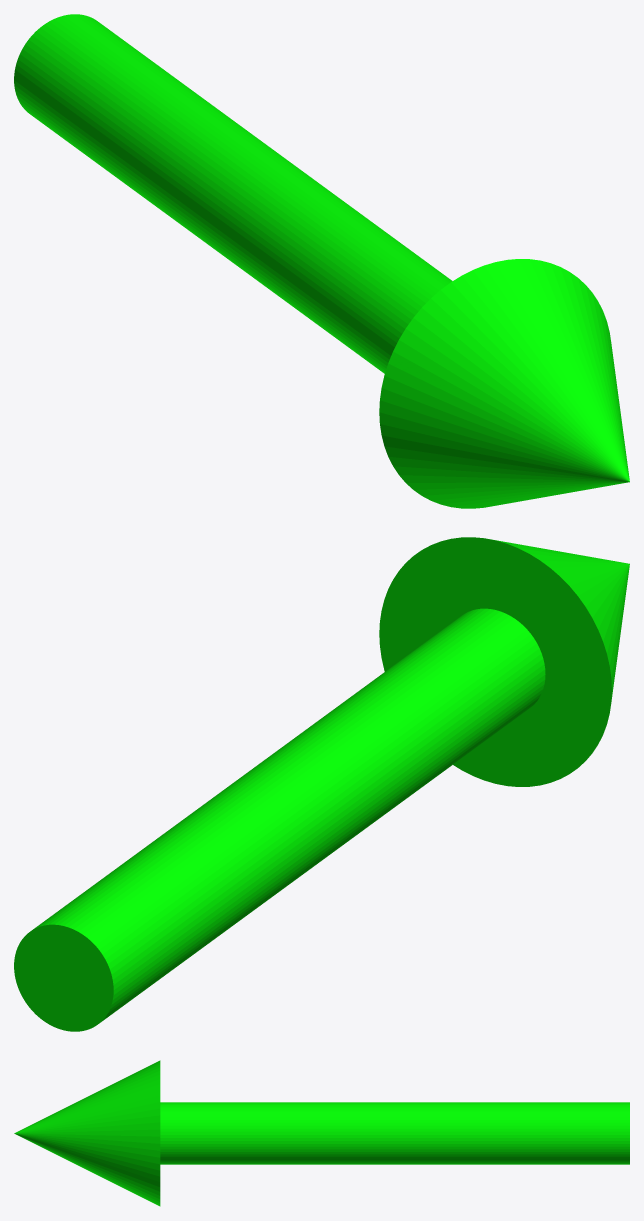
Rendered from arrow.obj.
The picture shows the model from 3 angles, top to bottom: view 1: azimuth 30°, elevation 25°; view 2: azimuth 150°, elevation 25°; view 3: azimuth 270°, elevation 25°; orthographic projection. The views are drawn at different scales.
Visible parts, largest first — view 1: obj_0; view 2: obj_0; view 3: obj_0.
Part boxes in pixels (box(x1,y1,x2,y2)): obj_0: box(14, 14, 629, 508); obj_0: box(14, 537, 629, 1031); obj_0: box(14, 1060, 629, 1206).
Bounding box in the file's own units: 14 × 14 × 59.
